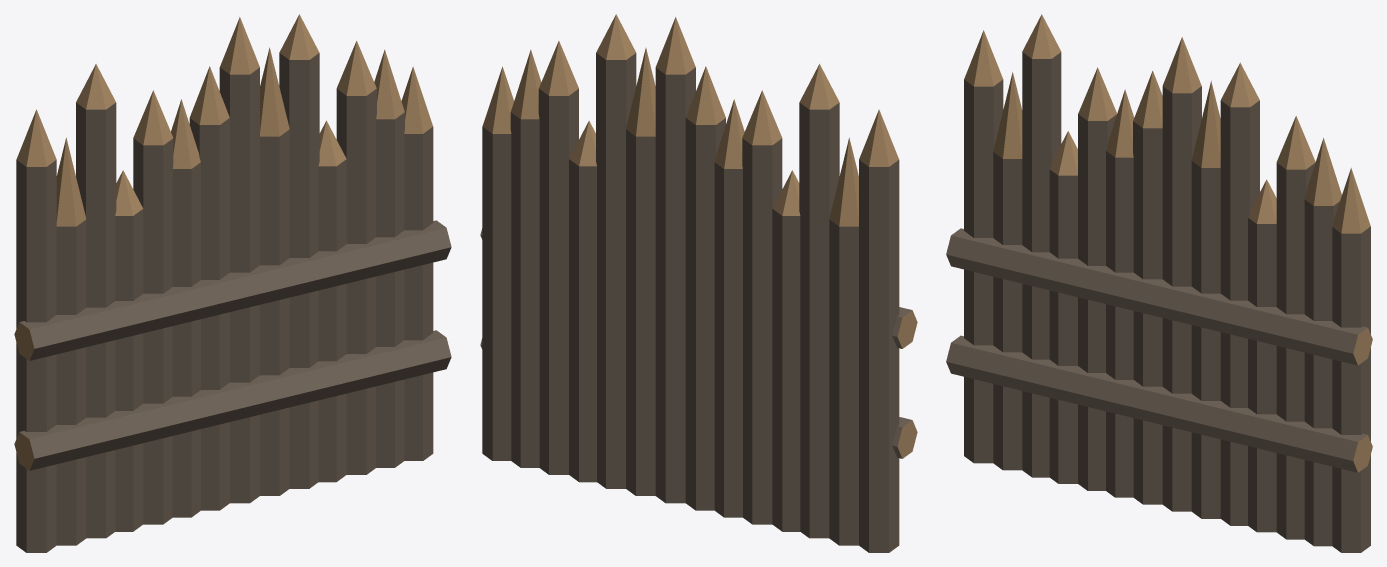
File: army_wood_wall_02.glb
3 renders of one model, left to right at view 1: azimuth 30°, elevation 25°; view 2: azimuth 150°, elevation 25°; view 3: azimuth 330°, elevation 25°, orthographic. The views are drawn at different scales.
Parts seen in each view (by area): view 1: pCylinder590; view 2: pCylinder590; view 3: pCylinder590.
Part boxes in pixels (x1,y1,x2,y2): pCylinder590: (14, 14, 451, 552); pCylinder590: (480, 14, 917, 552); pCylinder590: (946, 14, 1372, 552).
Size of the model in its own units: 4.07 by 4.46 by 0.4776.
